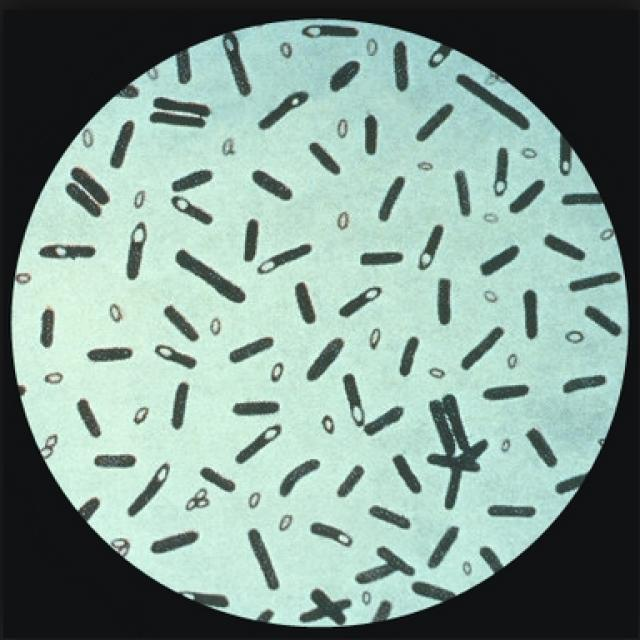Amoeba: (10, 17, 632, 630)
